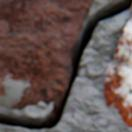brick: (0, 0, 92, 110), (102, 4, 131, 128)
crack: (0, 0, 131, 130)
